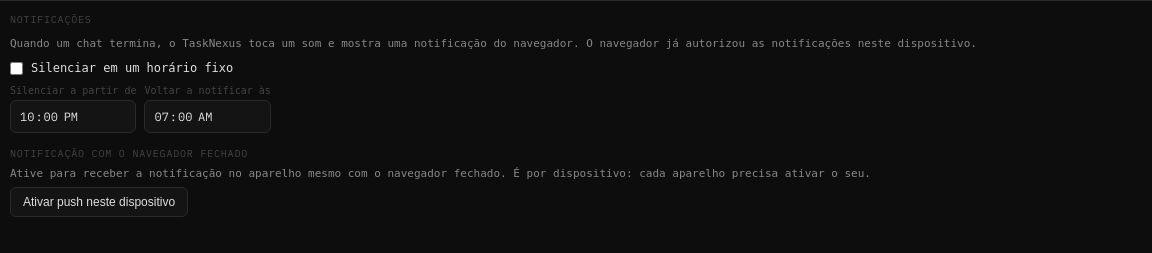
Test: NotificationSettings — enabling push › surfaces a rejected permission prompt instead of failing silently
Click the button "Ativar push neste dispositivo" at (99, 202), box x1=10 y1=187 x2=188 y2=217
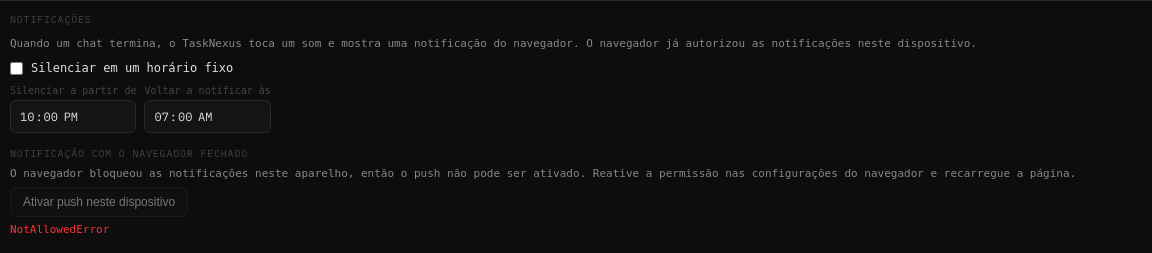
Now the message reads "NotAllowedError", box x1=10 y1=223 x2=109 y2=236
Now the button "Ativar push neste dispositivo" is disabled, box x1=10 y1=187 x2=188 y2=217
